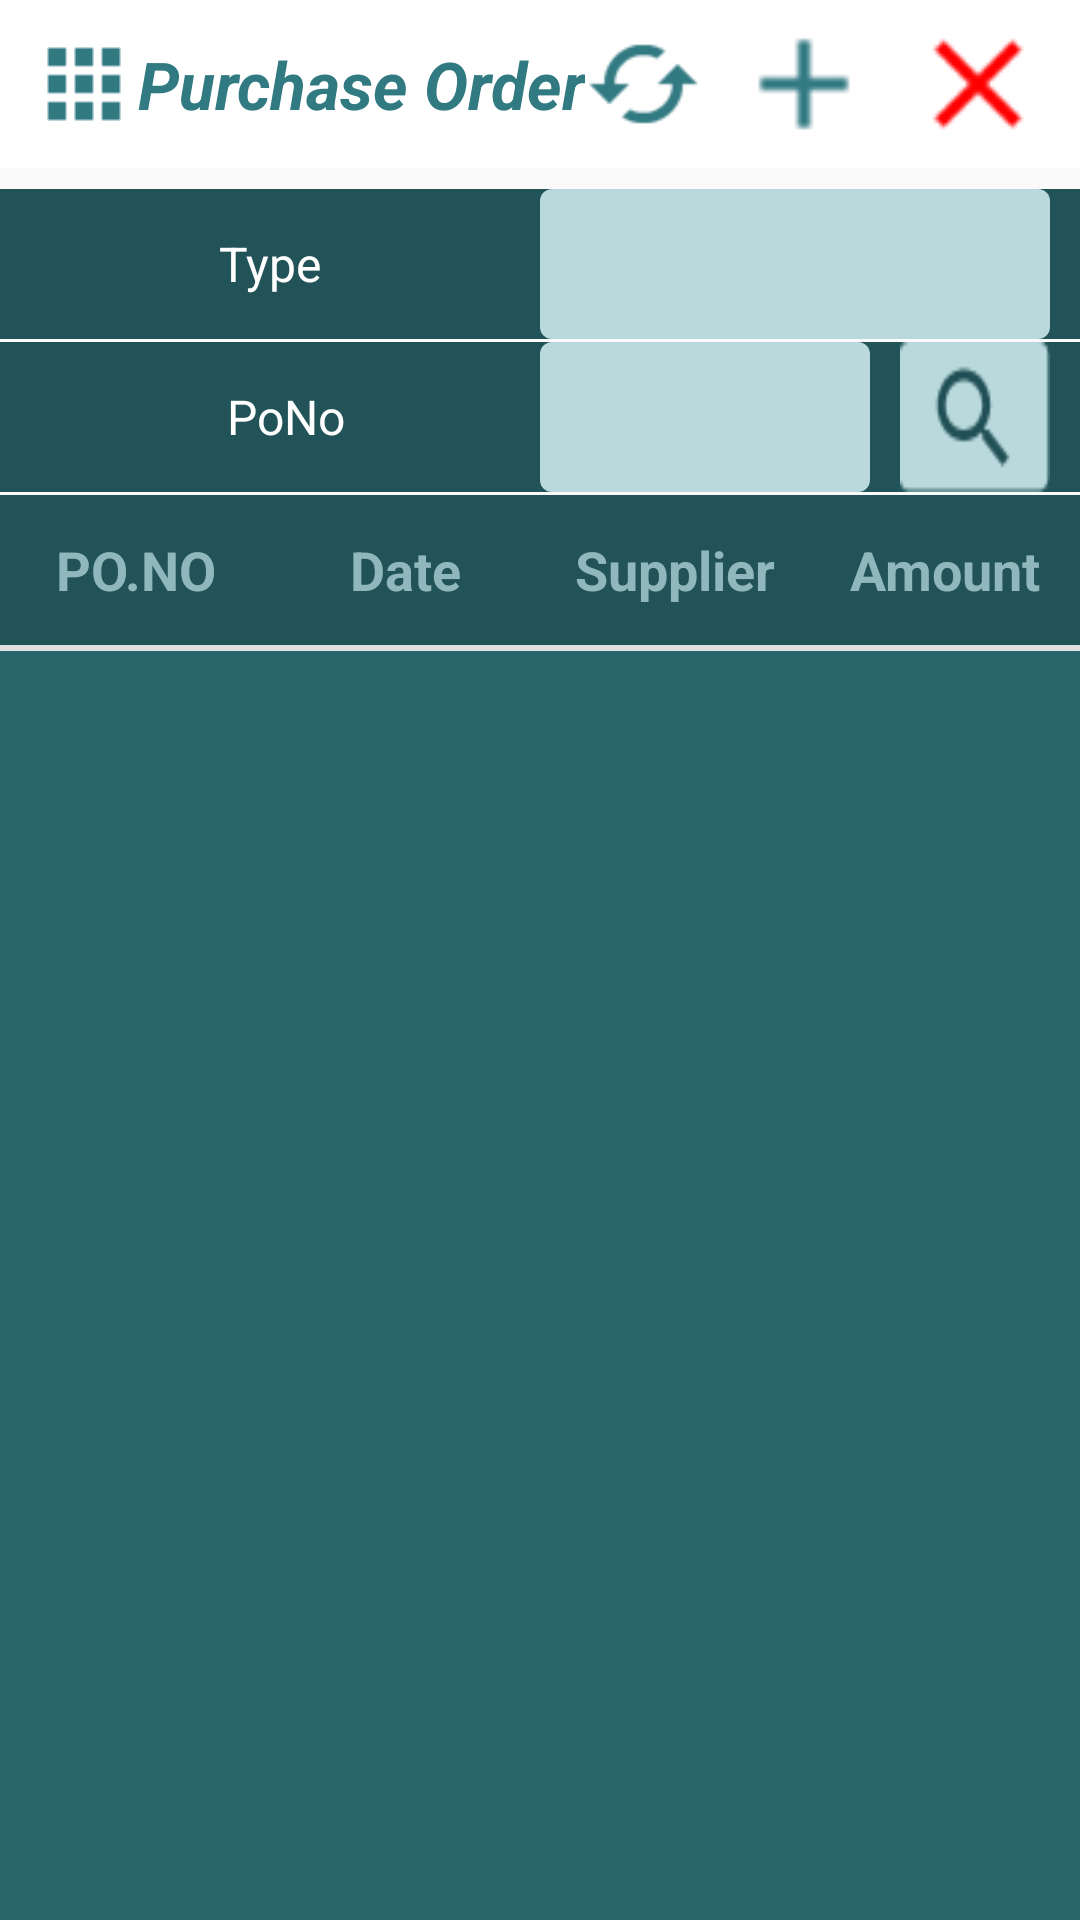

Where icons sit on this 1080*1920 app screen, as {"left": x1, "top": y1, "right": x2, "bottom": y2}:
add: {"left": 758, "top": 38, "right": 850, "bottom": 130}
group close: {"left": 933, "top": 39, "right": 1023, "bottom": 129}
menu: {"left": 47, "top": 47, "right": 121, "bottom": 121}
reload: {"left": 589, "top": 44, "right": 698, "bottom": 124}
search: {"left": 900, "top": 342, "right": 1050, "bottom": 492}
